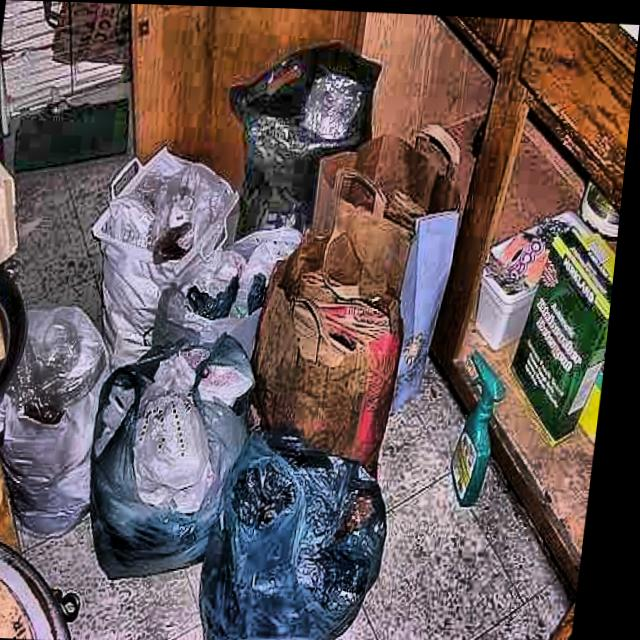Plastic: (290, 104, 475, 404), (84, 318, 271, 580), (205, 25, 404, 250), (254, 228, 425, 480), (203, 436, 414, 640), (77, 129, 240, 360), (0, 301, 128, 538), (450, 337, 522, 526)
